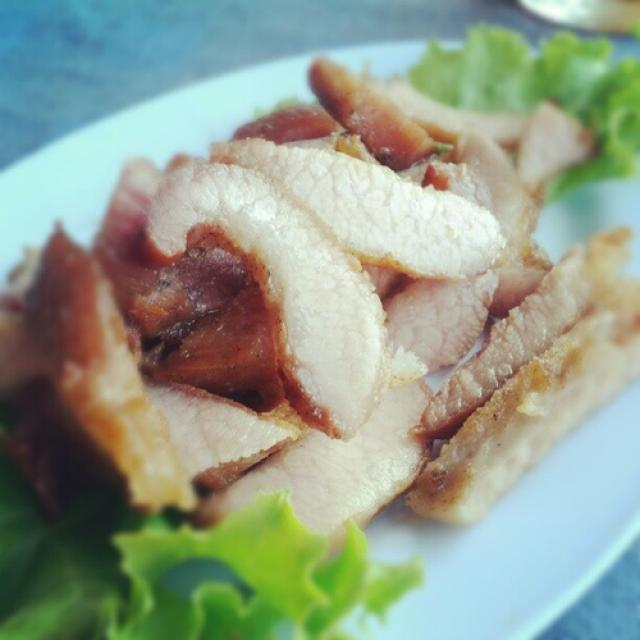猪肉菜式: (23, 25, 634, 616)
